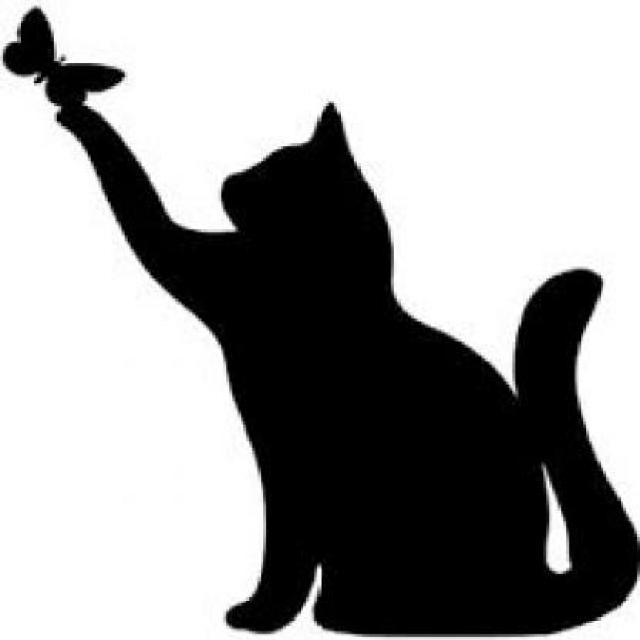animals: (42, 106, 635, 626)
